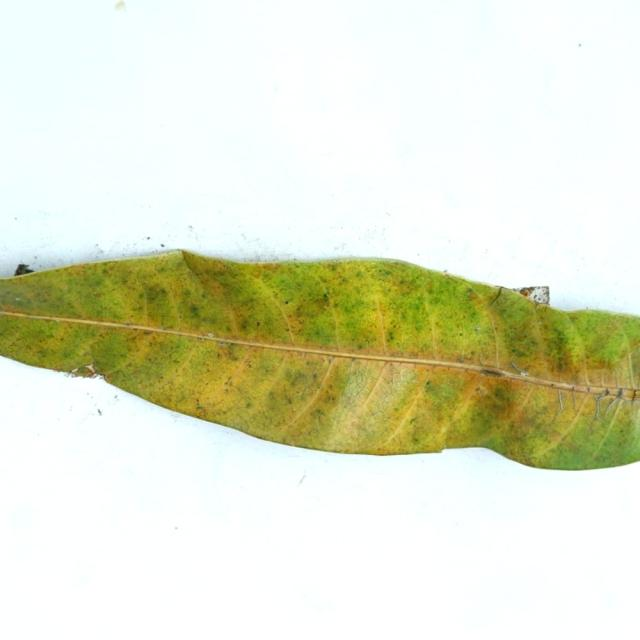Mango: (0, 252, 639, 468)
Powdery_Mildew: (276, 365, 320, 406), (506, 338, 534, 361), (409, 295, 429, 317), (318, 287, 337, 307), (382, 327, 402, 345), (236, 396, 257, 411), (352, 267, 367, 284), (180, 287, 197, 300), (381, 267, 397, 280), (194, 404, 207, 418), (318, 297, 331, 309), (465, 288, 478, 300), (314, 411, 324, 426), (422, 379, 436, 389), (251, 270, 263, 280), (424, 381, 433, 391), (224, 378, 233, 388), (142, 328, 154, 335), (196, 401, 204, 411), (409, 416, 417, 425), (324, 356, 331, 364), (351, 357, 358, 364), (323, 293, 329, 301), (92, 291, 99, 297), (458, 356, 465, 362), (312, 373, 317, 379), (475, 326, 481, 331), (256, 321, 261, 326), (285, 300, 289, 304), (458, 332, 462, 336)
